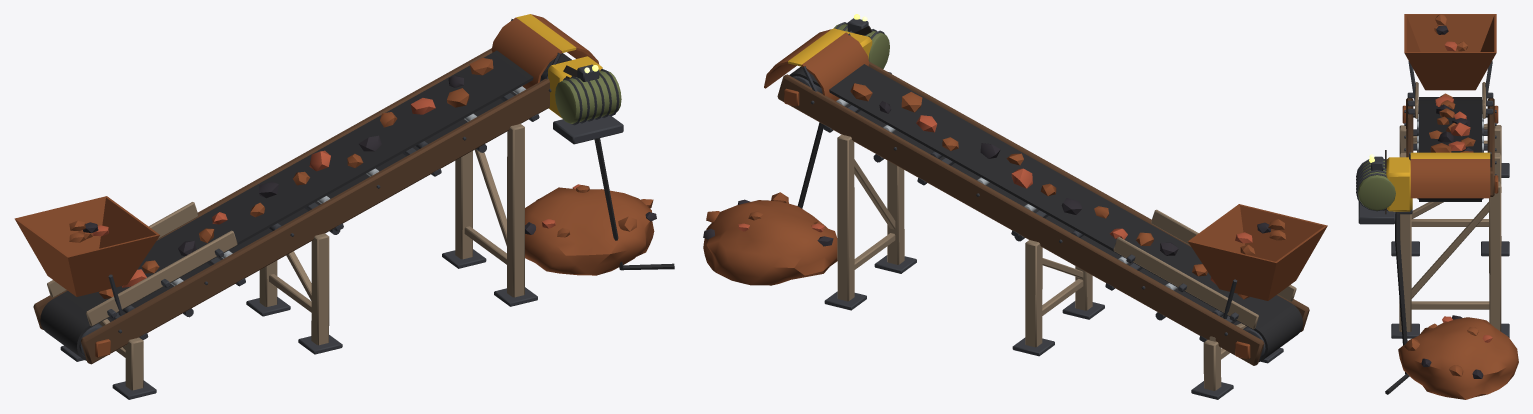
Rendered from deco_conveyor.fbx.
3 renders of one model, left to right at view 1: azimuth 30°, elevation 25°; view 2: azimuth 150°, elevation 25°; view 3: azimuth 270°, elevation 25°, orthographic. The views are drawn at different scales.
Parts seen in each view (by area): view 1: Conveyor_Frame, Conveyor_Belt, Conveyor_Ore, Conveyor_Motor, Conveyor_Rollers; view 2: Conveyor_Frame, Conveyor_Belt, Conveyor_Ore, Conveyor_Motor, Conveyor_Rollers; view 3: Conveyor_Frame, Conveyor_Ore, Conveyor_Motor, Conveyor_Belt, Conveyor_Rollers.
Part boxes in pixels (<box>): Conveyor_Frame: <box>14,14,599,399</box>; Conveyor_Belt: <box>40,50,571,360</box>; Conveyor_Ore: <box>69,58,656,298</box>; Conveyor_Motor: <box>548,56,674,270</box>; Conveyor_Rollers: <box>79,72,547,357</box>; Conveyor_Frame: <box>764,29,1327,399</box>; Conveyor_Belt: <box>789,64,1302,361</box>; Conveyor_Ore: <box>703,83,1285,299</box>; Conveyor_Motor: <box>797,14,891,208</box>; Conveyor_Rollers: <box>784,76,1265,359</box>; Conveyor_Frame: <box>1391,14,1509,338</box>; Conveyor_Ore: <box>1398,14,1518,399</box>; Conveyor_Motor: <box>1356,150,1412,394</box>; Conveyor_Belt: <box>1419,97,1481,201</box>; Conveyor_Rollers: <box>1402,100,1498,199</box>.
Size of the model in its own units: 603 by 218 by 160.
